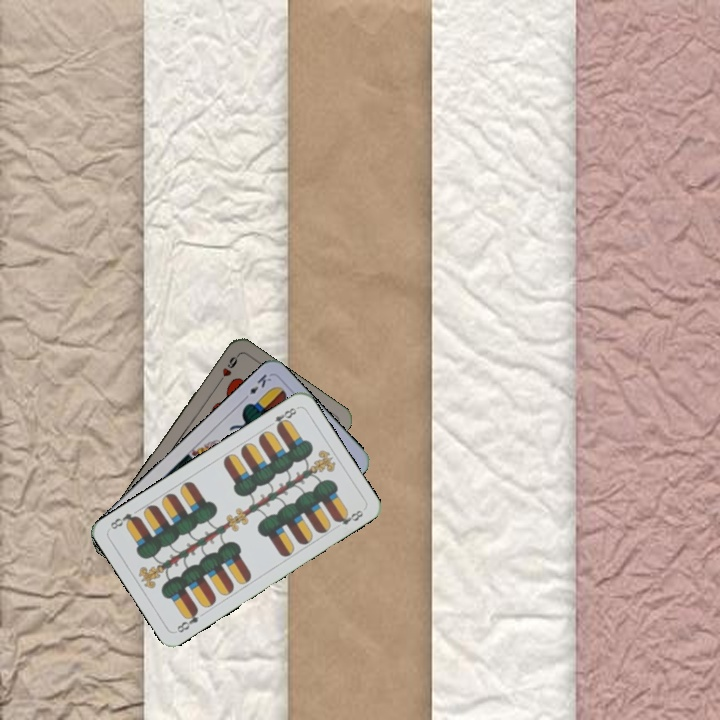E8: (264, 403, 300, 432), (173, 605, 201, 635)
EK: (239, 369, 274, 403)
H9: (213, 351, 241, 387)
